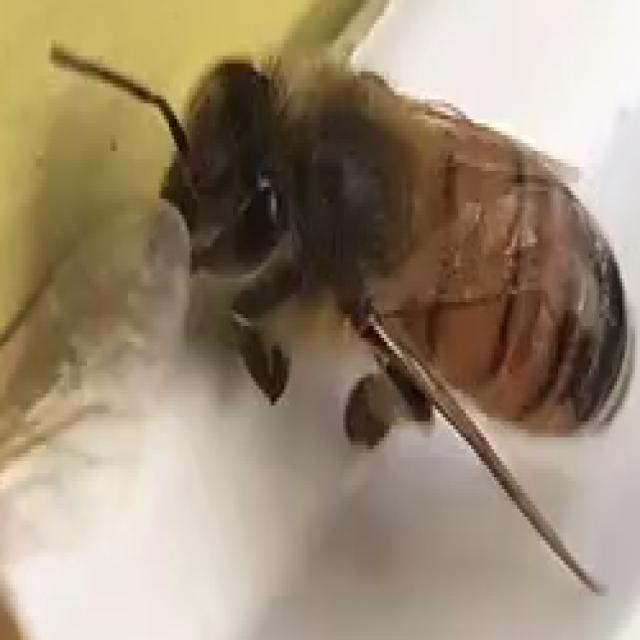honeybee: (44, 44, 625, 588)
